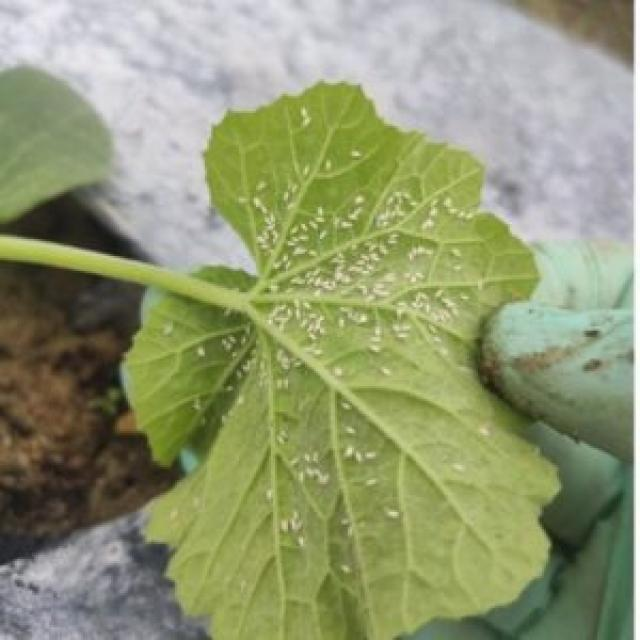Whitefly: (181, 96, 523, 590)
